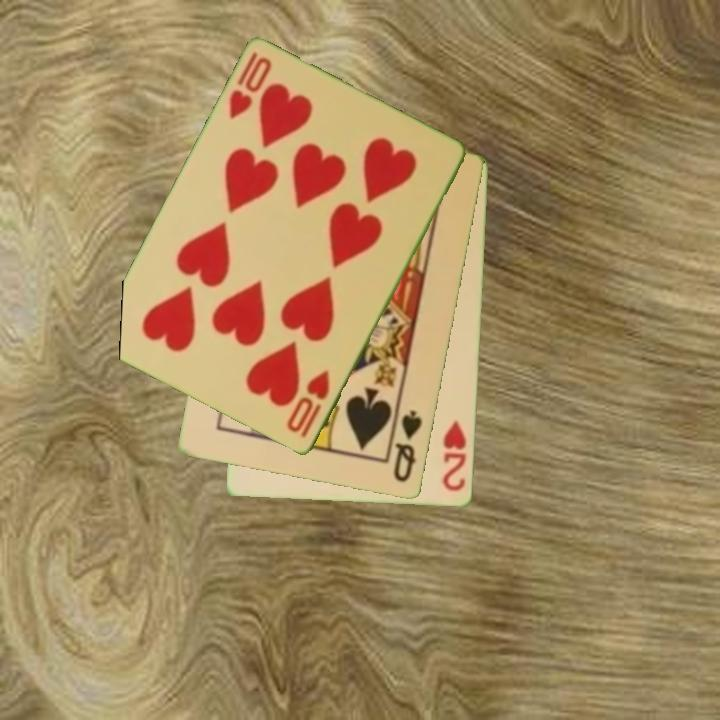10h: (283, 367, 333, 441), (225, 49, 275, 123)
2h: (440, 418, 470, 494)
Qs: (390, 407, 426, 485)
